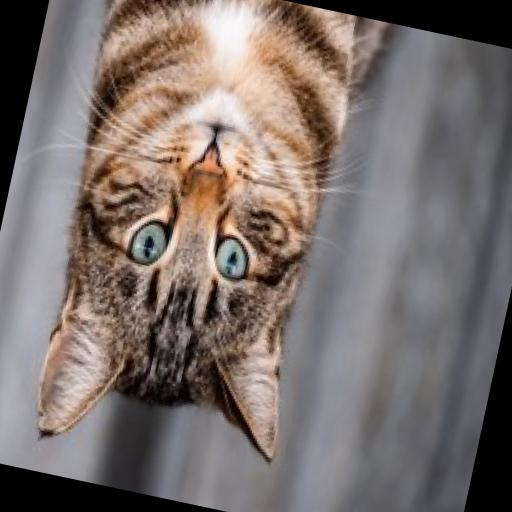cat: (0, 0, 411, 509)
